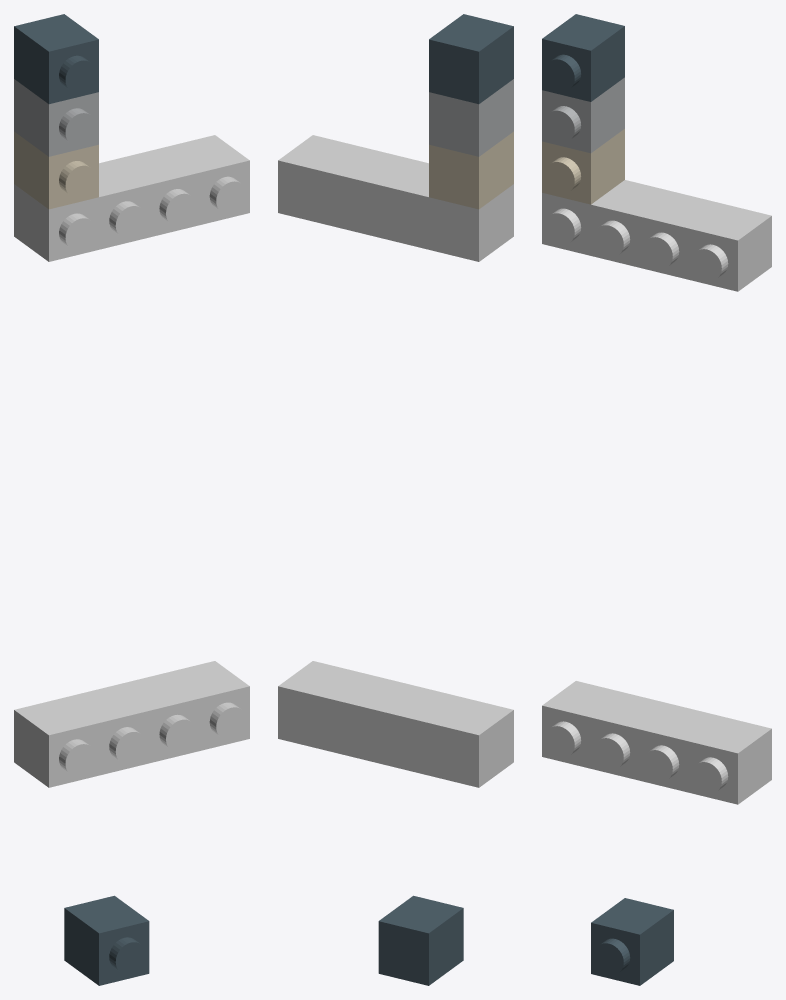
File: current.glb
3 renders of one model, left to right at view 1: azimuth 30°, elevation 25°; view 2: azimuth 150°, elevation 25°; view 3: azimuth 330°, elevation 25°, orthographic. The views are drawn at different scales.
Parts seen in each view (by area): view 1: world; view 2: world; view 3: world.
Boxes of the visible parts, left/top/right/bottom form: world: left=14, top=14, right=249, bottom=985; world: left=278, top=14, right=513, bottom=985; world: left=542, top=14, right=771, bottom=985.
Bounding box in the file's own units: 32 × 144 × 11.4.
